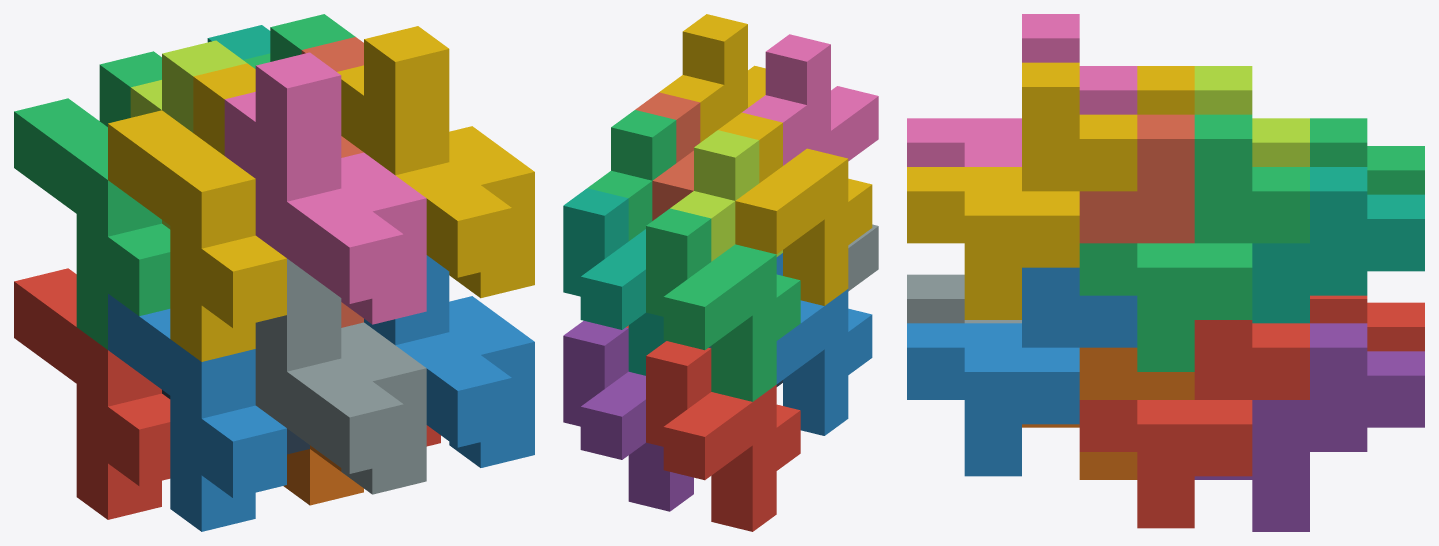
File: tiling.obj
3 views of the same model, side by side, from view 1: azimuth 30°, elevation 25°; view 2: azimuth 150°, elevation 25°; view 3: azimuth 270°, elevation 25° (orthographic). The views are drawn at different scales.
Parts seen in each view (by area): view 1: copy_2_domain_4, copy_1_domain_4, copy_2_domain_8, copy_2_domain_2, copy_1_domain_3, copy_1_domain_2, copy_1_domain_1, copy_2_domain_6, copy_2_domain_3, copy_1_domain_6, copy_2_domain_7, copy_1_domain_8 (+1 smaller); view 2: copy_1_domain_3, copy_1_domain_1, copy_1_domain_4, copy_1_domain_5, copy_1_domain_7, copy_2_domain_4, copy_1_domain_2, copy_2_domain_8, copy_2_domain_3, copy_2_domain_7, copy_1_domain_8, copy_2_domain_2; view 3: copy_2_domain_8, copy_2_domain_7, copy_2_domain_6, copy_2_domain_5, copy_1_domain_5, copy_1_domain_7, copy_2_domain_4, copy_1_domain_8, copy_1_domain_6, copy_2_domain_3, copy_1_domain_3, copy_1_domain_1 (+2 smaller).
Boxes of the visible parts, x1,y1,x2,y2 form: copy_2_domain_4: (224, 52, 426, 324); copy_1_domain_4: (108, 63, 286, 361); copy_2_domain_8: (337, 26, 534, 298); copy_2_domain_2: (255, 258, 426, 494); copy_1_domain_3: (14, 51, 170, 349); copy_1_domain_2: (108, 294, 286, 531); copy_1_domain_1: (14, 268, 170, 519); copy_2_domain_6: (364, 255, 534, 467); copy_2_domain_3: (130, 40, 246, 229); copy_1_domain_6: (283, 445, 363, 505); copy_2_domain_7: (243, 14, 355, 68); copy_1_domain_8: (301, 37, 363, 327); copy_1_domain_3: (646, 208, 800, 401); copy_1_domain_1: (646, 341, 800, 531); copy_1_domain_4: (718, 112, 872, 305); copy_1_domain_5: (563, 321, 693, 511); copy_1_domain_7: (563, 188, 665, 375); copy_2_domain_4: (742, 34, 878, 165); copy_1_domain_2: (776, 253, 872, 435); copy_2_domain_8: (659, 14, 765, 142); copy_2_domain_3: (670, 130, 782, 261); copy_2_domain_7: (587, 110, 676, 240); copy_1_domain_8: (635, 92, 700, 220); copy_2_domain_2: (848, 224, 878, 291); copy_2_domain_8: (907, 62, 1137, 319); copy_2_domain_7: (1079, 114, 1309, 371); copy_2_domain_6: (907, 267, 1137, 476); copy_2_domain_5: (1079, 320, 1309, 528); copy_1_domain_5: (1194, 323, 1424, 531); copy_1_domain_7: (1252, 167, 1424, 323); copy_2_domain_4: (907, 14, 1137, 166); copy_1_domain_8: (1079, 114, 1194, 243); copy_1_domain_6: (1022, 347, 1194, 479); copy_2_domain_3: (1194, 66, 1309, 166); copy_1_domain_3: (1310, 118, 1424, 194); copy_1_domain_1: (1310, 295, 1424, 351).
Size of the model in its own units: 5 by 9 by 9.
